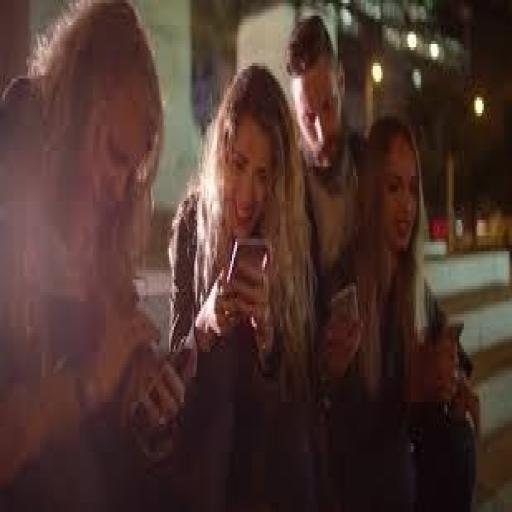sitting: (2, 3, 477, 506), (0, 0, 184, 506), (166, 60, 323, 506), (318, 110, 464, 506)
